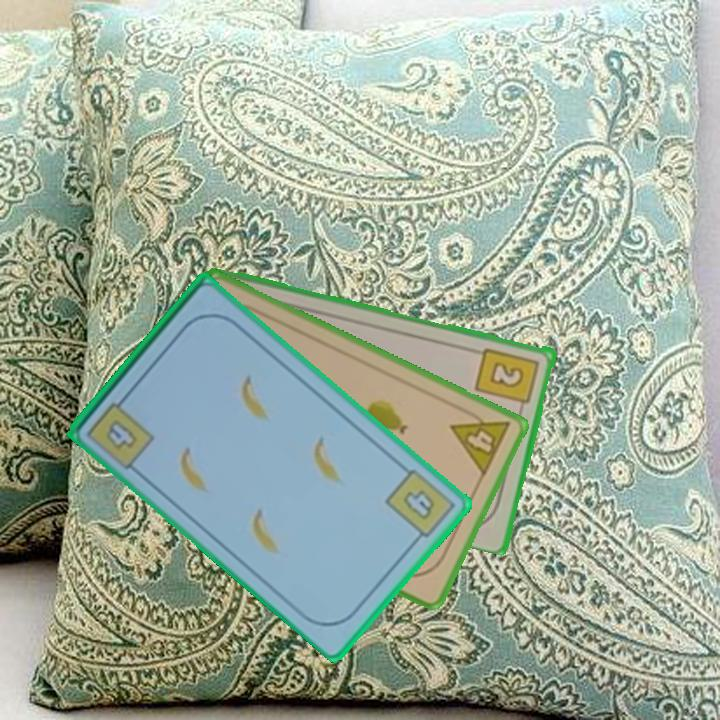2b: (472, 343, 542, 415)
4b: (381, 465, 459, 547), (102, 415, 141, 452)
4p: (447, 402, 514, 479)
